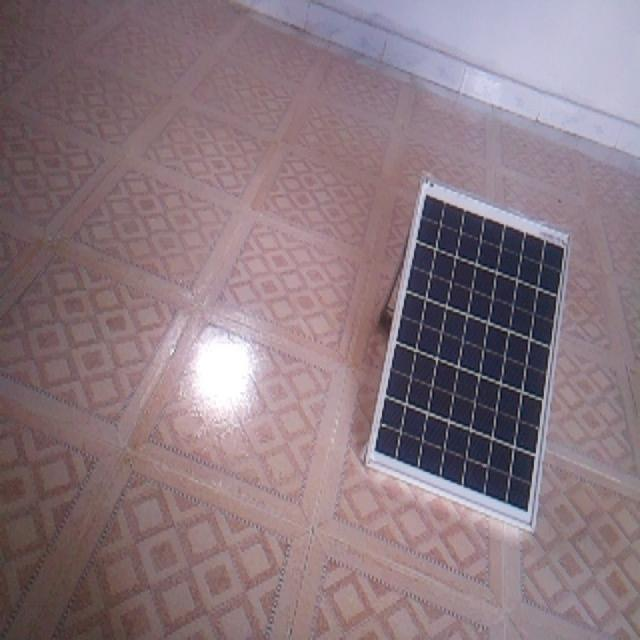Normal Solar Panel: (368, 177, 570, 531)
